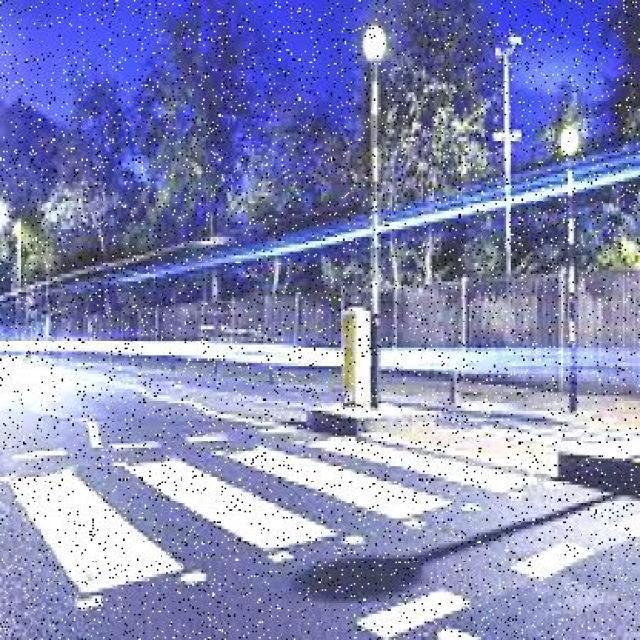crosswalk: (14, 432, 537, 596)
